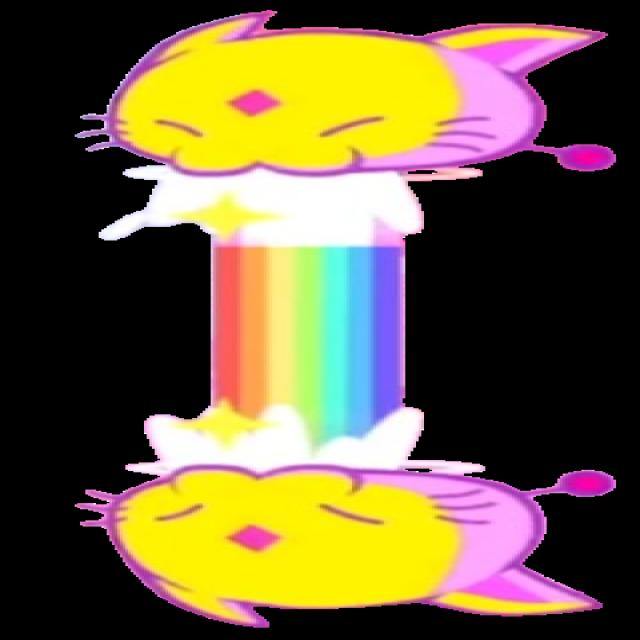Two-Faced Monster: (56, 0, 640, 631), (610, 229, 640, 284)
